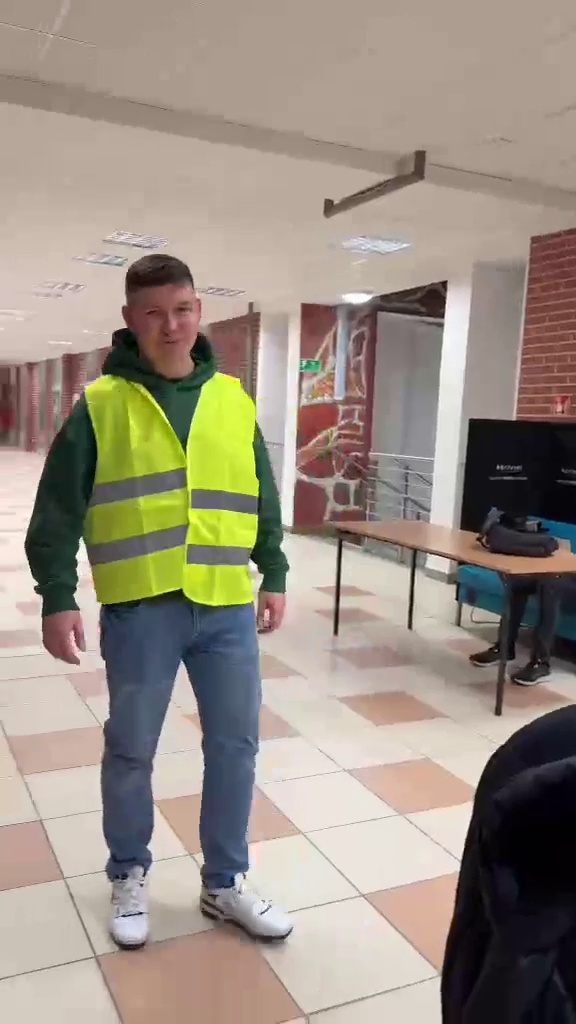vest: (36, 252, 293, 958)
